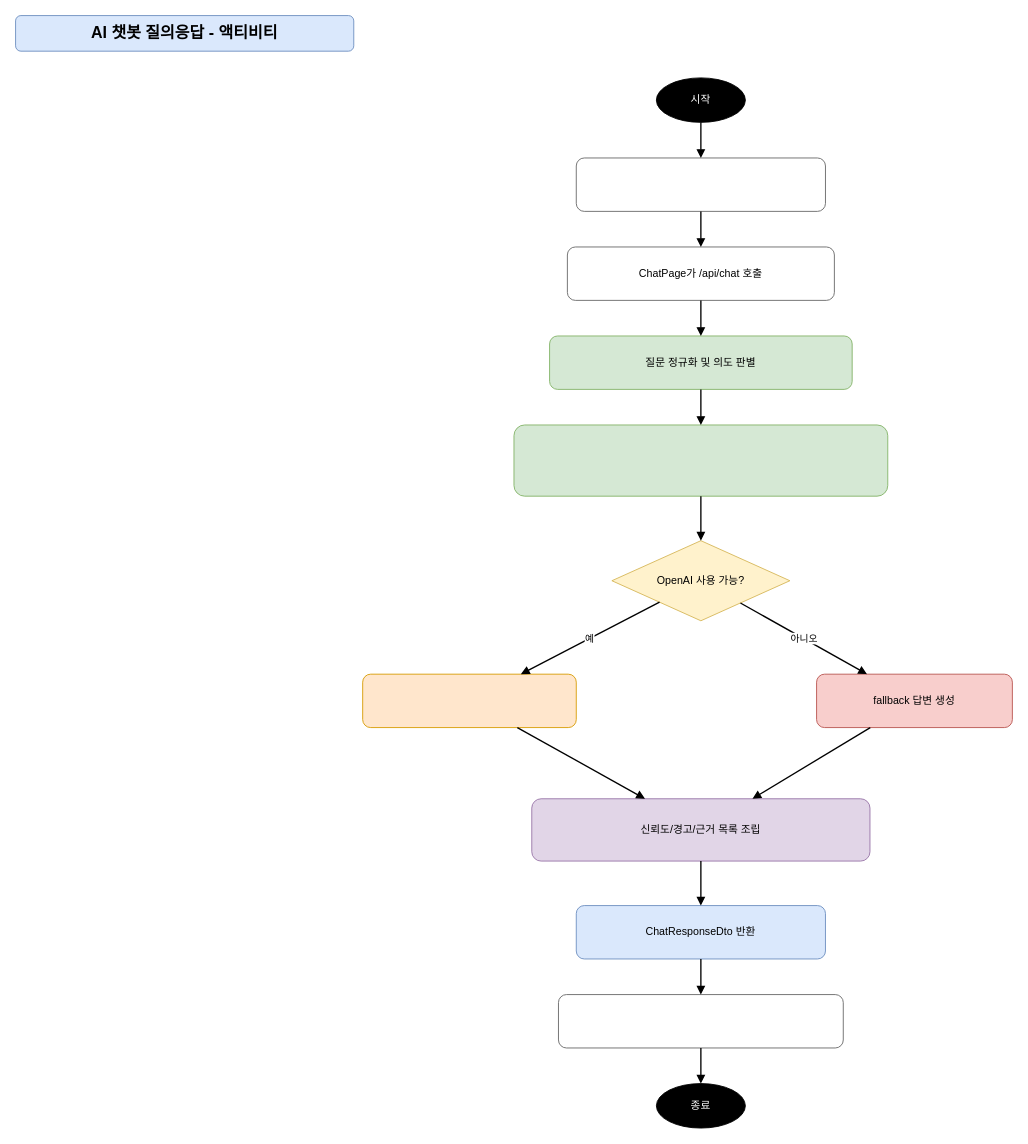
Some shapes in this 1028 by 1144 pixel diagram are drawn without their labels. The centre of each missing label's shape, as x and y in pixels:
OpenAI 응답 생성: pixel 469 700
답변 카드와 근거 카드 표시: pixel 700 1021
사용자가 질문 입력: pixel 700 184
축제 데이터 기반 근거 검색 (부스, 공연, 분실물, 공지, AI 추천): pixel 700 460
